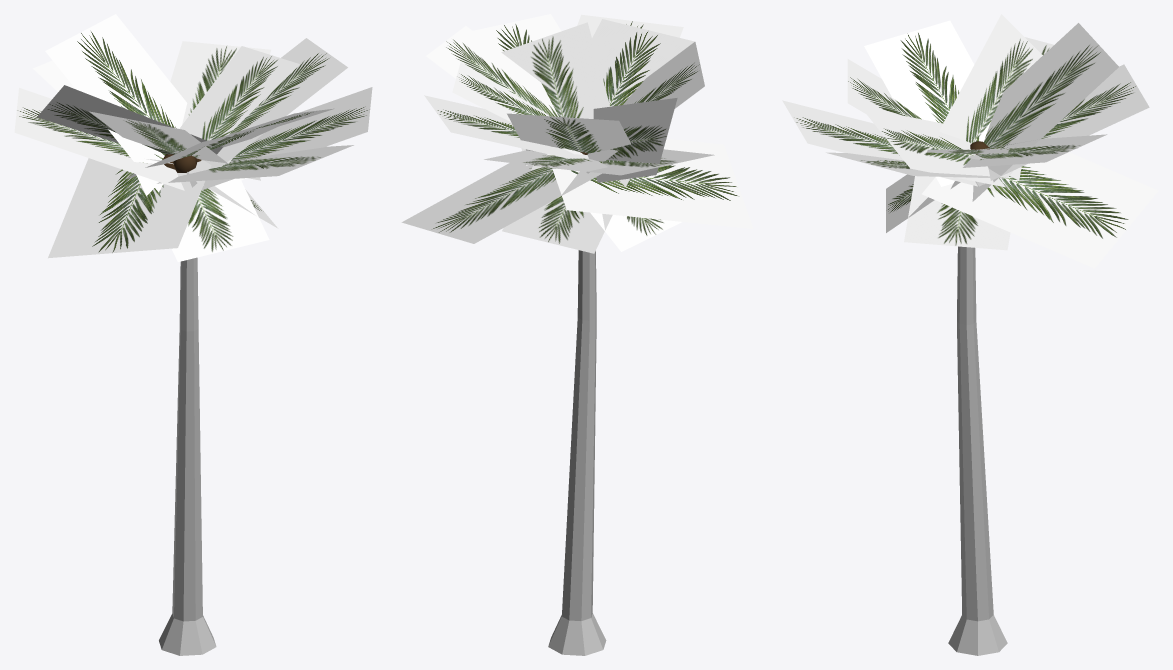
File: palmier_1.fbx
3 renders of one model, left to right at view 1: azimuth 30°, elevation 25°; view 2: azimuth 150°, elevation 25°; view 3: azimuth 270°, elevation 25°, orthographic.
Parts seen in each view (by area): view 1: tronc, Plane.004, Plane.008, Plane.003, Plane.011, feuilles, Plane.012, Plane.002, Plane.013, Plane.009, Plane.007, Plane.006 (+1 smaller); view 2: tronc, Plane.004, Plane.005, Plane.010, Plane.006, Plane.012, Plane.013, Plane.008, feuilles, Plane.003, Plane.009, Plane.007 (+3 smaller); view 3: Plane.005, tronc, Plane.008, Plane.002, Plane.007, Plane.013, Plane.010, Plane.001, Plane.009, Plane.006, feuilles, Plane.003.
Part boxes in pixels (x1,y1,x2,y2): tronc: (159,257,216,655); Plane.004: (48,158,211,258); Plane.008: (45,14,245,192); Plane.003: (14,87,372,190); Plane.011: (179,46,299,164); feuilles: (125,173,269,261); Plane.012: (204,38,347,168); Plane.002: (33,60,353,183); Plane.013: (37,85,222,154); Plane.009: (170,41,270,124); Plane.007: (89,111,228,164); Plane.006: (145,120,292,167); tronc: (548,250,606,655); Plane.004: (547,138,753,228); Plane.005: (401,163,602,243); Plane.010: (501,22,609,165); Plane.006: (592,19,694,106); Plane.012: (426,26,558,116); Plane.013: (593,98,677,182); Plane.008: (507,113,630,153); feuilles: (502,165,629,253); Plane.003: (473,14,714,175); Plane.009: (424,95,588,158); Plane.007: (586,42,704,173); Plane.005: (922,152,1158,268); tronc: (948,246,1007,655); Plane.008: (972,23,1118,201); Plane.002: (782,64,1149,186); Plane.007: (864,20,990,186); Plane.013: (939,14,1042,143); Plane.010: (861,107,1005,187); Plane.001: (904,167,1021,250); Plane.009: (963,134,1107,167); Plane.006: (847,59,921,119); feuilles: (886,174,997,232); Plane.003: (826,37,1053,178).
Bounding box in the file's own units: 6.76 × 12.06 × 7.15.
